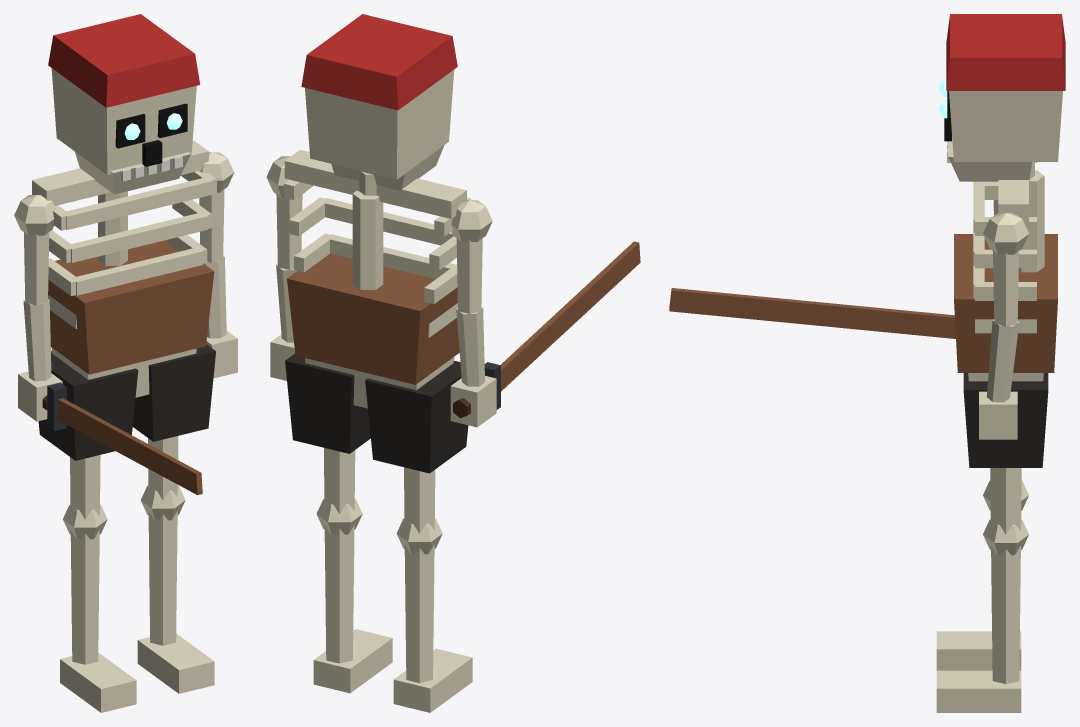
Rendered from Skeleton.fbx.
3 views of the same model, side by side, from view 1: azimuth 30°, elevation 25°; view 2: azimuth 150°, elevation 25°; view 3: azimuth 270°, elevation 25° (orthographic). The views are drawn at different scales.
Visible parts, largest first — view 1: Body, Head, LegL, LegR, ArmR, Sword, ArmL; view 2: Body, Head, LegR, LegL, ArmR, Sword, ArmL; view 3: Head, LegL, Body, Sword, ArmL, LegR.
Boxes of the visible parts, bbox=[...] form: Body: bbox=[32, 140, 216, 397]; Head: bbox=[48, 14, 200, 194]; LegL: bbox=[132, 344, 215, 693]; LegR: bbox=[38, 351, 138, 712]; ArmR: bbox=[14, 195, 62, 421]; Sword: bbox=[42, 382, 202, 495]; ArmL: bbox=[199, 152, 237, 378]; Body: bbox=[284, 149, 472, 408]; Head: bbox=[301, 14, 457, 190]; LegR: bbox=[365, 360, 472, 712]; LegL: bbox=[285, 353, 392, 693]; ArmR: bbox=[450, 200, 496, 427]; Sword: bbox=[453, 241, 640, 418]; ArmL: bbox=[266, 156, 304, 380]; Head: bbox=[938, 14, 1065, 181]; LegL: bbox=[936, 373, 1048, 712]; Body: bbox=[954, 162, 1057, 381]; Sword: bbox=[669, 288, 955, 338]; ArmL: bbox=[979, 213, 1028, 439]; LegR: bbox=[936, 480, 1028, 670].
Size of the model in its own units: 0.6439 by 1.86 by 1.03.
